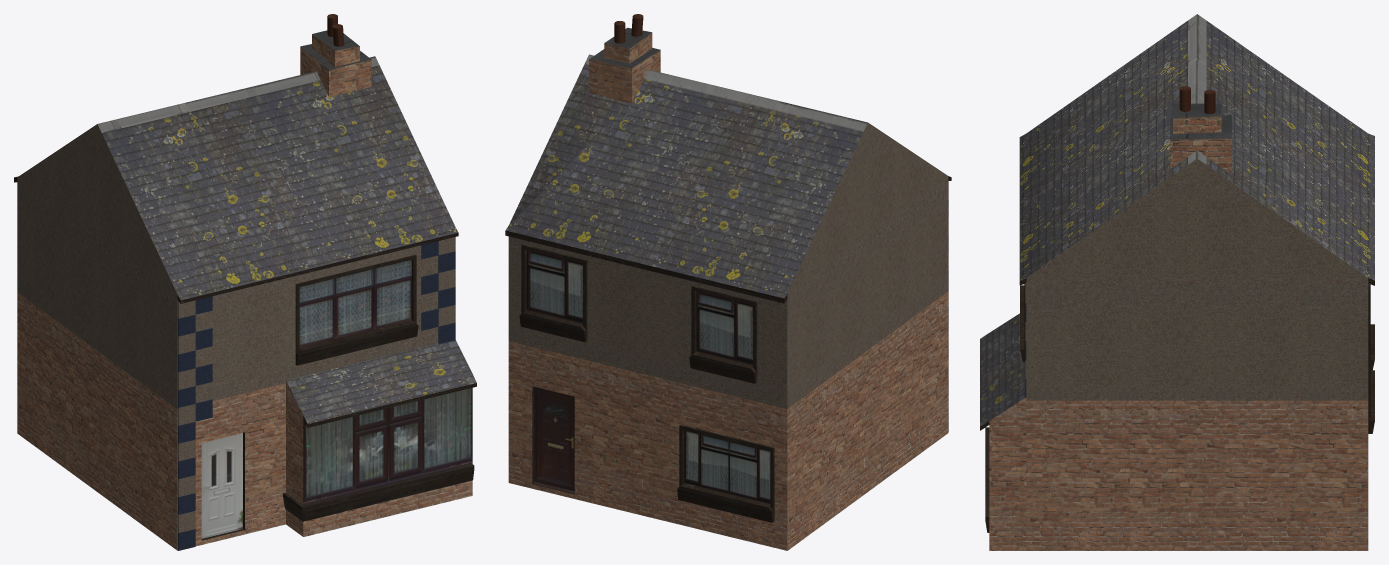
The model's file is terraced4am.FBX.
3 renders of one model, left to right at view 1: azimuth 30°, elevation 25°; view 2: azimuth 150°, elevation 25°; view 3: azimuth 270°, elevation 25°, orthographic. The views are drawn at different scales.
Parts seen in each view (by area): view 1: Box001; view 2: Box001; view 3: Box001.
Part boxes in pixels (<box>): Box001: <box>14,14,476,550</box>; Box001: <box>505,14,951,550</box>; Box001: <box>980,14,1374,550</box>.
Size of the model in its own units: 800 by 1136 by 924.
